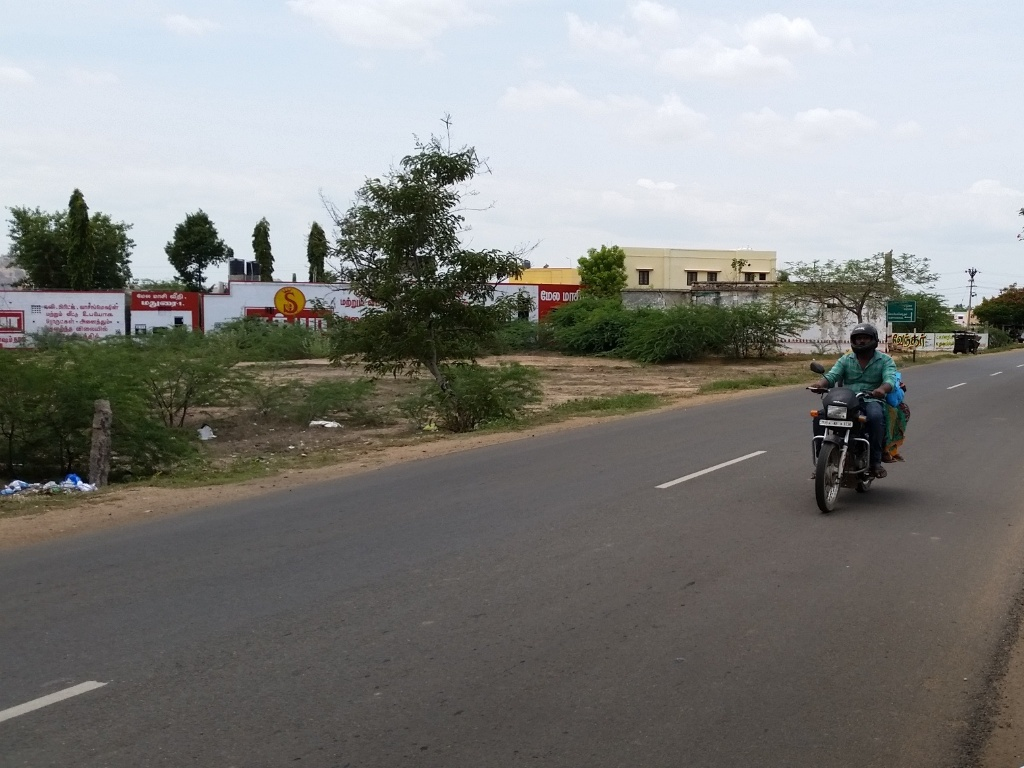biker: (790, 307, 928, 525)
helmet: (847, 320, 885, 359)
